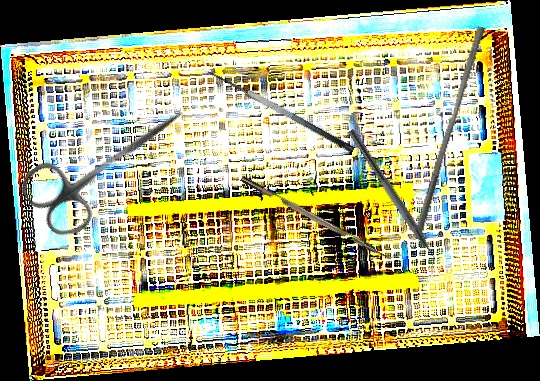Chopper: (338, 128, 447, 276), (240, 168, 402, 267)
Iris Scissors: (14, 78, 204, 246)
Pusher: (413, 24, 486, 242)
Spatula Surgical: (201, 64, 356, 166)
